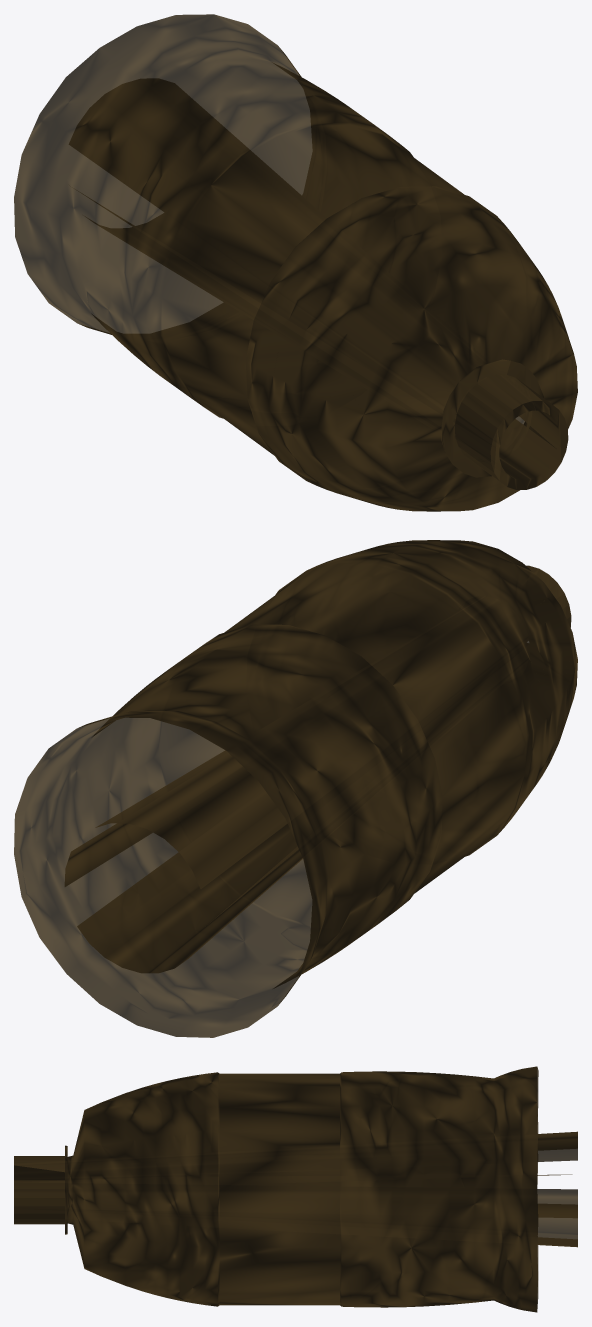
Rendered from model_align.obj.
3 views of the same model, one above another, from view 1: azimuth 30°, elevation 25°; view 2: azimuth 150°, elevation 25°; view 3: azimuth 270°, elevation 25° (orthographic). The views are drawn at different scales.
Size of the model in its own units: 0.1063 by 0.1063 by 0.2445.
